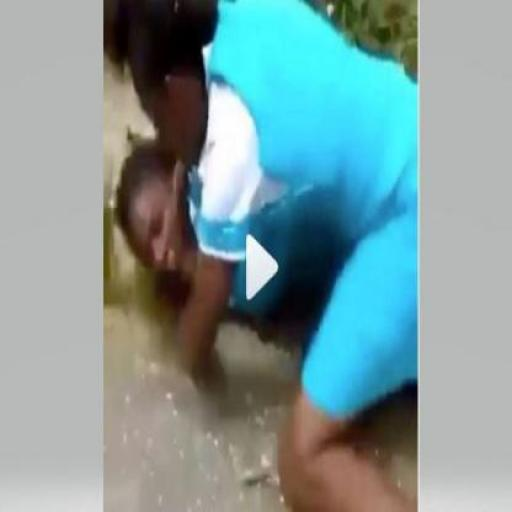Fighting: (102, 2, 421, 512), (322, 411, 327, 413)
